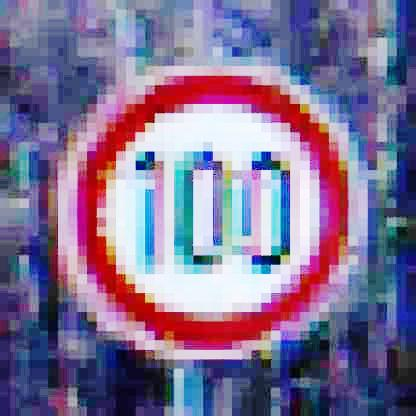Speed Limit -100-: (54, 64, 362, 363)
